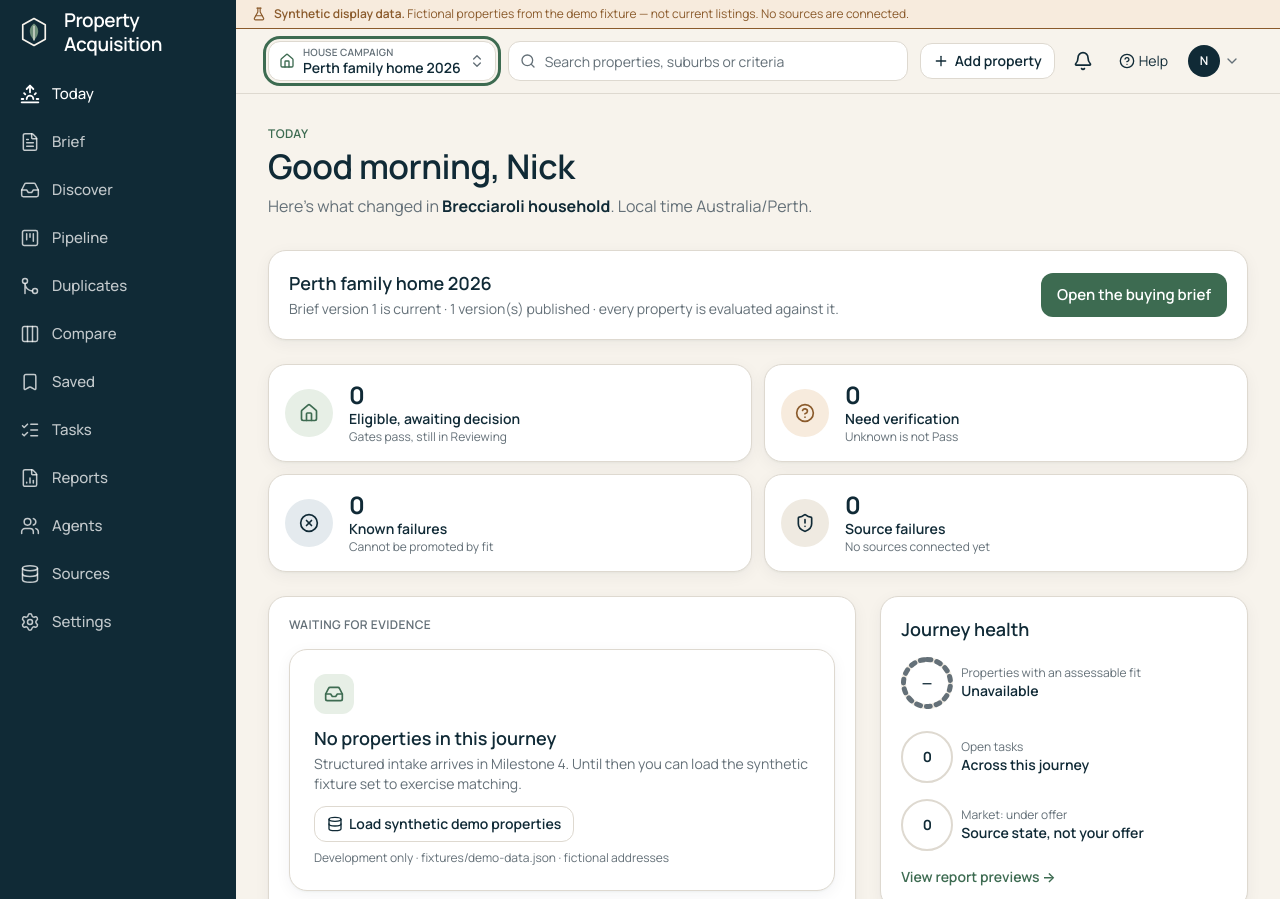
Test: U1 campaign selector and settings › switching campaigns changes the active campaign and clears campaign-specific selections
Expected: the text with test id "campaign-switcher-active-name" reads "Perth family home 2026", [303,58,461,76]
Press Enter
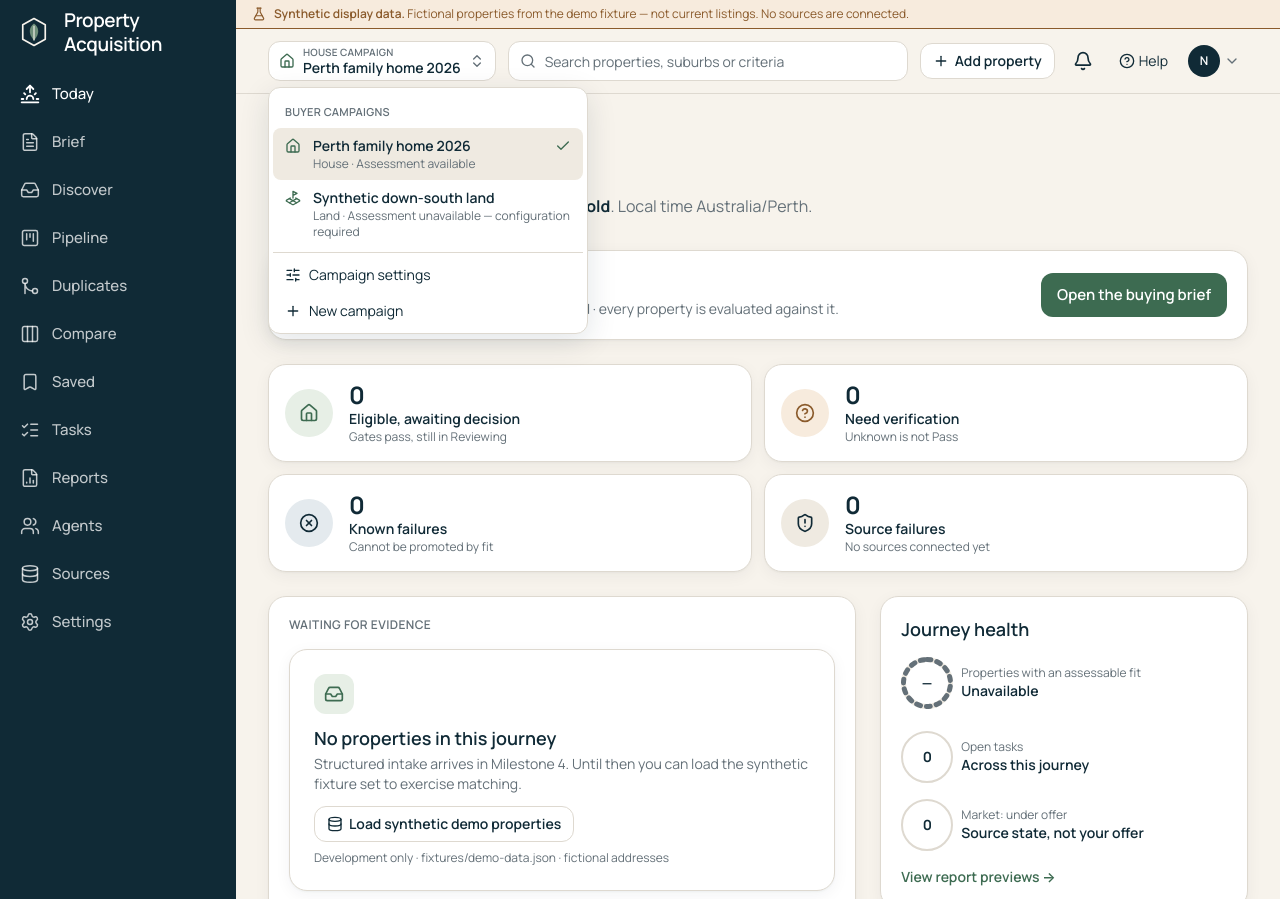
# Radix menu content mounts slowly under jsdom (the account menu behaves the same).
Click the menu item that starts with "Synthetic down-south land" at x=428, y=214, box [273,180,583,248]
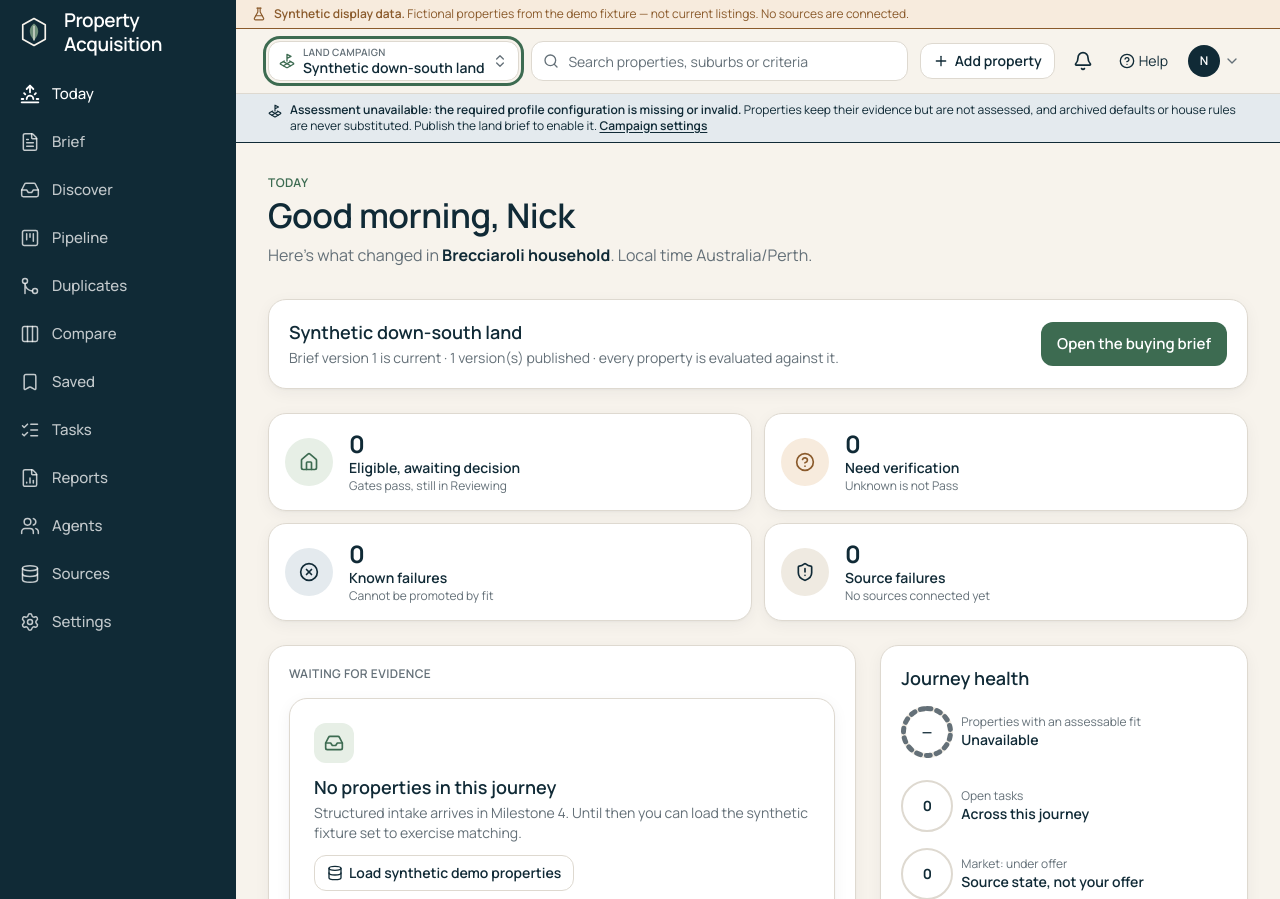
Expected: the text with test id "campaign-switcher-active-name" reads "Synthetic down-south land", [303,58,484,76]
Expected: the element with test id "campaign-assessment-unavailable" shows "required profile configuration is missing or invalid", [290,101,741,118]
